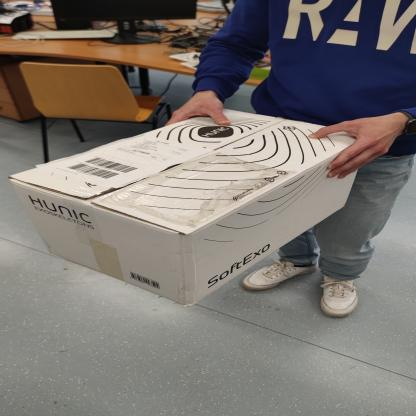box: (12, 106, 367, 315)
